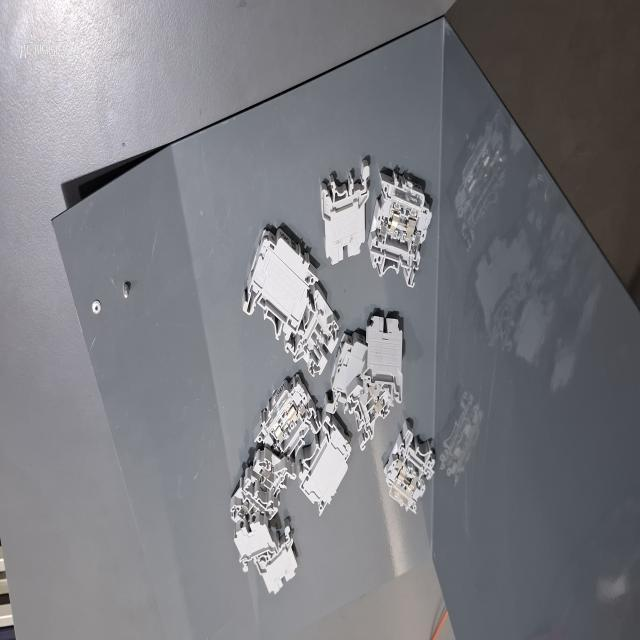Inverted: (321, 150, 374, 278), (358, 300, 412, 412), (228, 508, 282, 586)
Reject: (280, 284, 342, 384)
